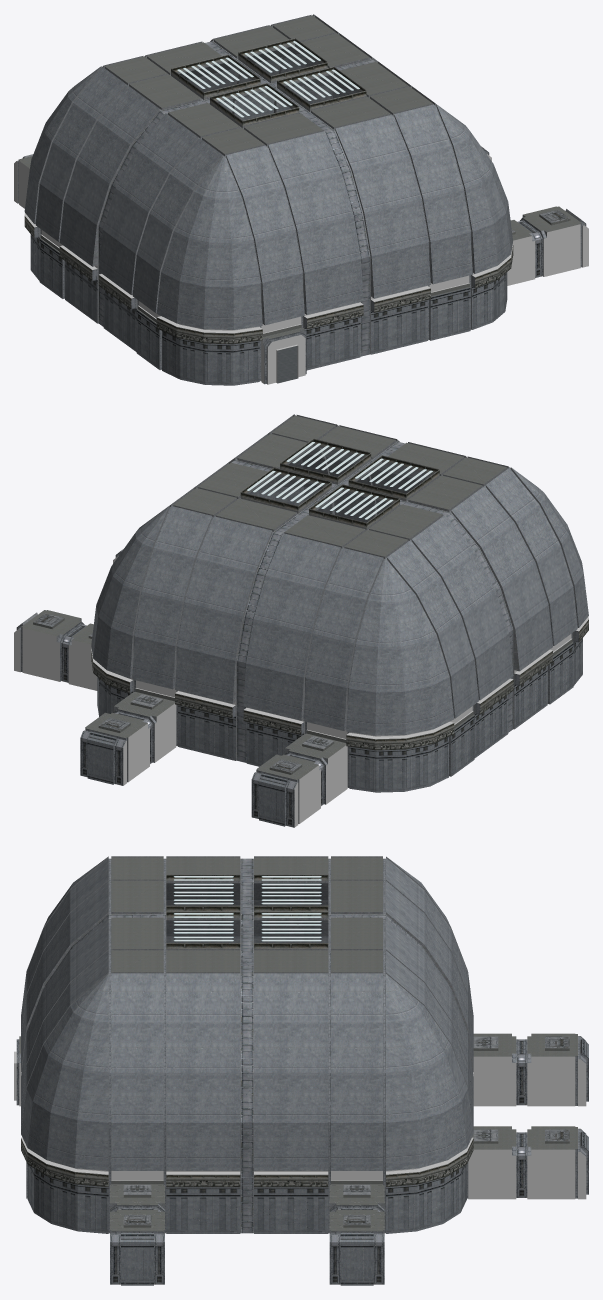
Rendered from poi_all_impl_bunker_warren_s01_r25_bigroom25_mesh_r25.fbx.
The picture shows the model from 3 angles, top to bottom: view 1: azimuth 30°, elevation 25°; view 2: azimuth 150°, elevation 25°; view 3: azimuth 270°, elevation 25°; orthographic projection. The views are drawn at different scales.
Parts seen in each view (by area): view 1: mesh_node; view 2: mesh_node; view 3: mesh_node.
Boxes of the visible parts, x1,y1,x2,y2 form: mesh_node: (14, 14, 588, 385); mesh_node: (14, 414, 588, 827); mesh_node: (14, 856, 588, 1285).
Size of the model in its own units: 41.4 by 18.7 by 41.9.
